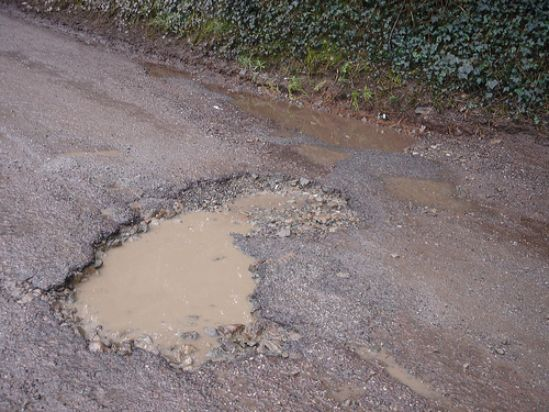pothole: (32, 167, 362, 377)
